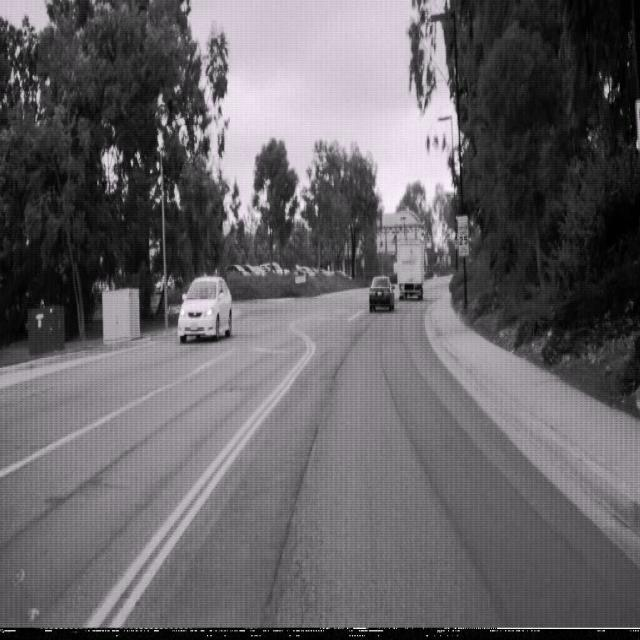speedLimit25: (456, 215, 469, 258)
